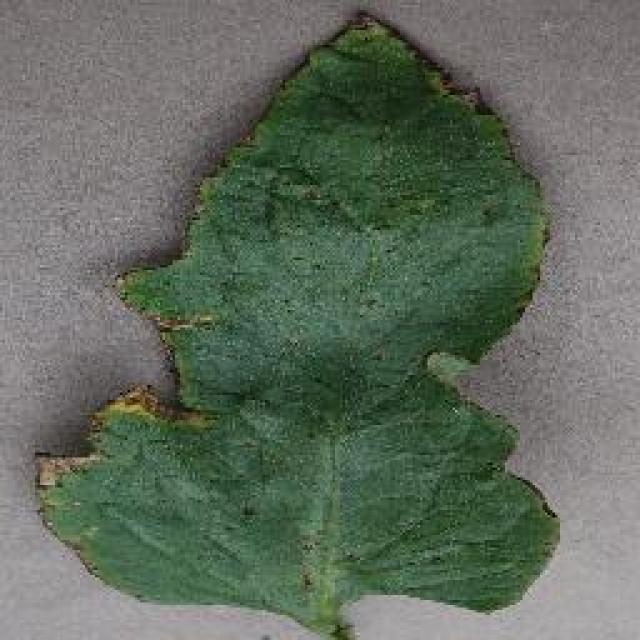Tomato___Bacterial_spot: (29, 11, 567, 638)
